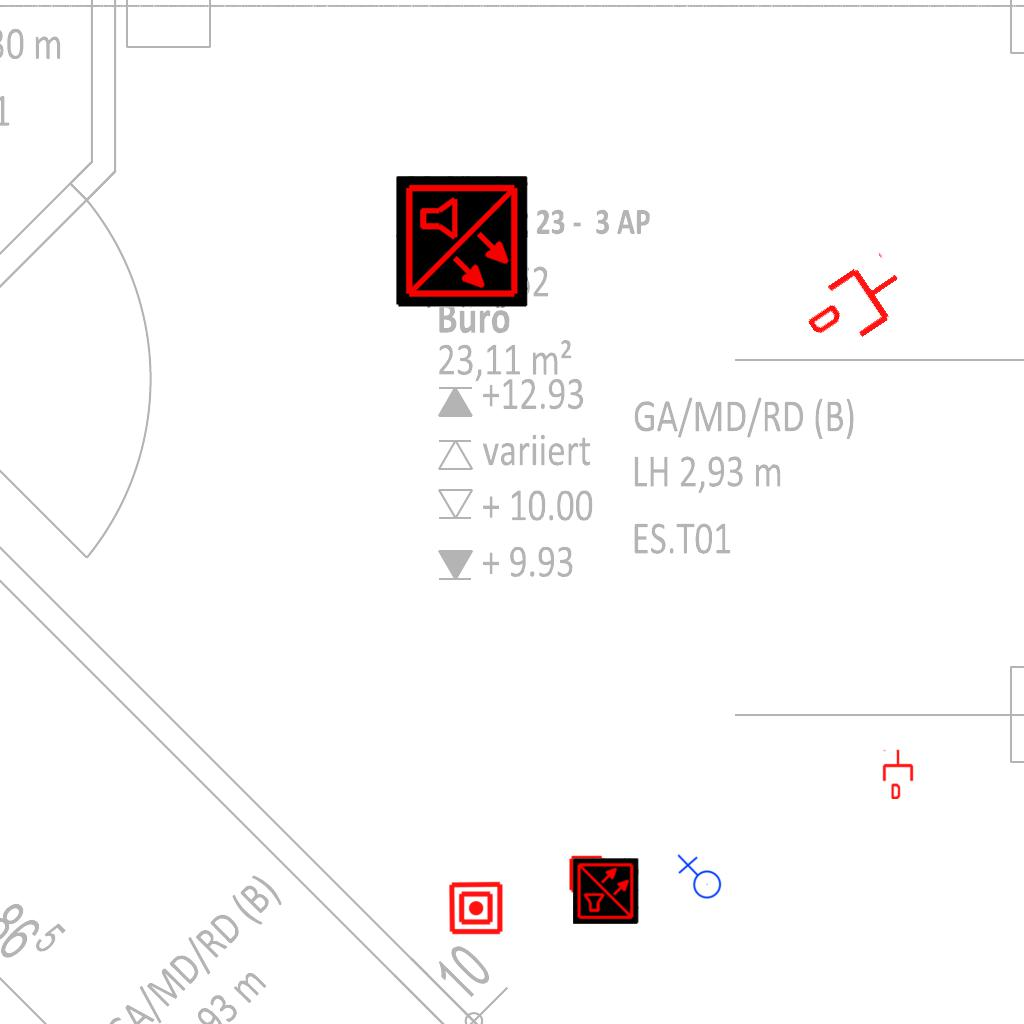Datenanschluss_einfach: (795, 247, 918, 361), (881, 749, 915, 799)
Elektroanschluss_allgemein_230V_Geraeteanschlussdose_230V: (675, 854, 722, 903)
NAM-Nichtautomatischer_Melder: (448, 880, 504, 936)
OKW_Multisensormelder_(Kombination_optischer_Rauch-Kahlenmonoxid_Waerme-Melder): (396, 176, 528, 308), (573, 858, 639, 924)
OT_Multisensormelder_(Kombination_RMO_WMD): (559, 845, 615, 901)
